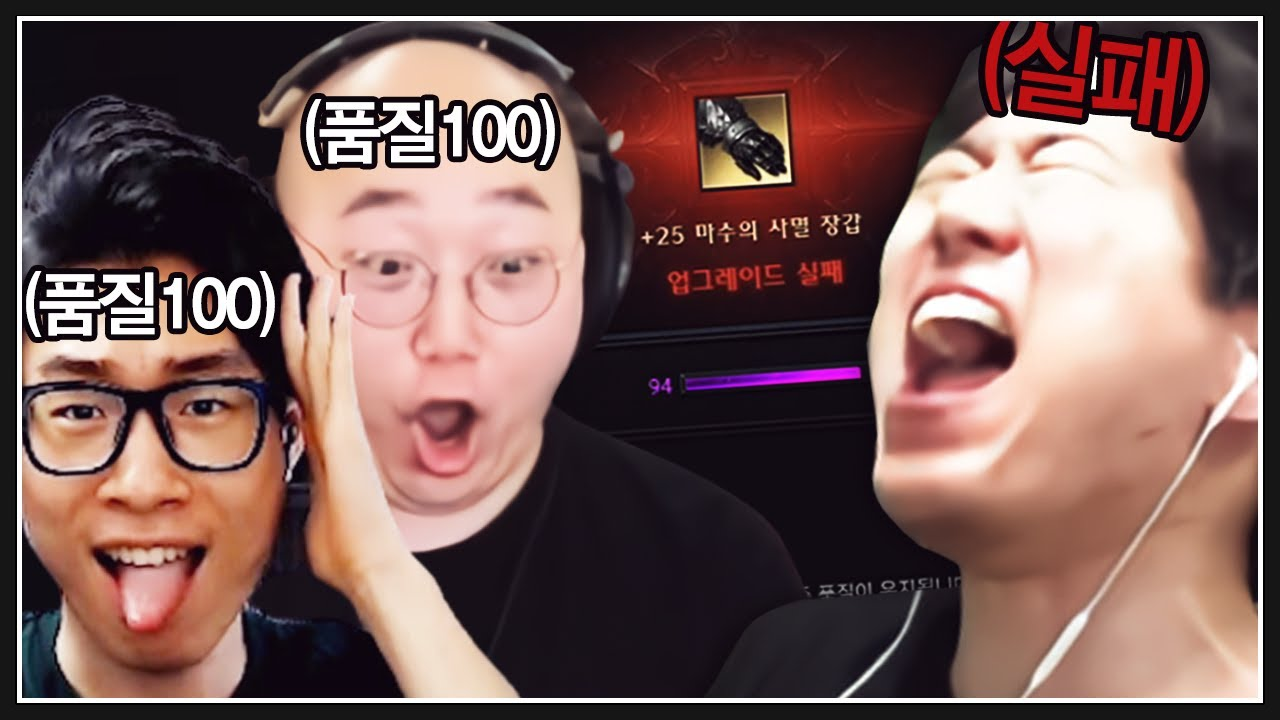(품질100): (297, 93, 563, 173), (25, 263, 276, 347)
